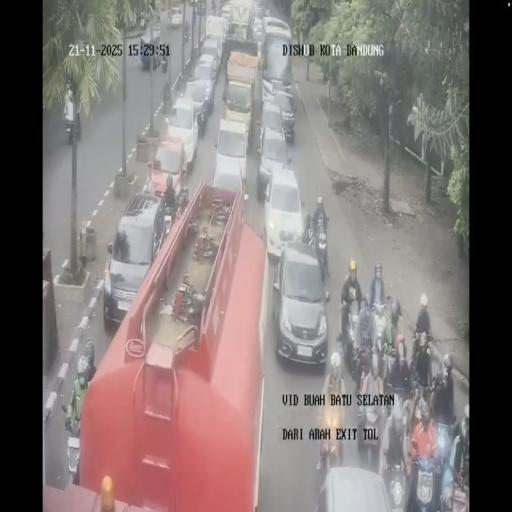3: (140, 31, 161, 70), (170, 6, 182, 28), (195, 0, 206, 16)
car: (104, 191, 169, 322), (273, 240, 327, 365), (210, 120, 250, 196), (150, 130, 191, 200), (256, 120, 291, 198), (181, 78, 211, 135), (262, 75, 293, 110), (262, 16, 291, 48), (200, 38, 222, 80), (252, 16, 264, 44), (220, 2, 232, 26), (251, 0, 262, 18)
truck: (406, 444, 440, 510), (318, 413, 344, 488), (340, 303, 360, 371), (371, 302, 389, 352), (314, 230, 330, 280), (183, 26, 189, 42)
